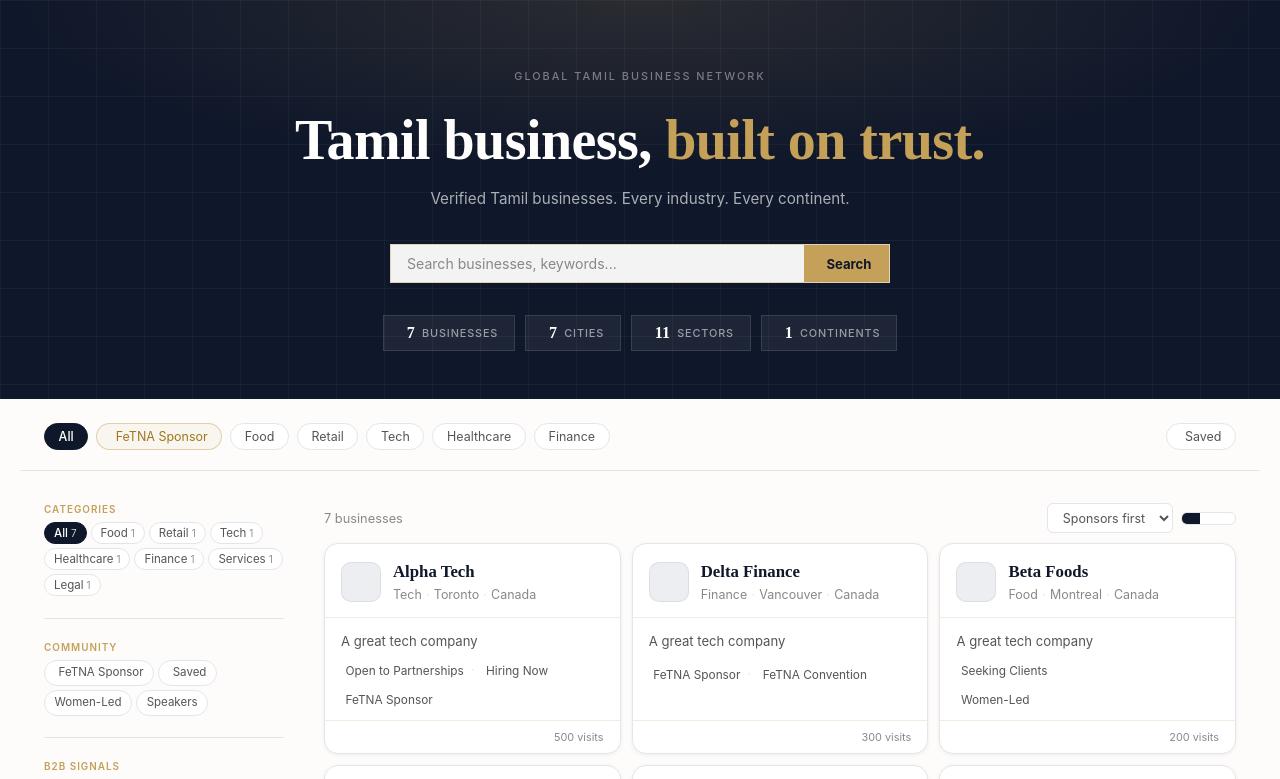
Test: DirectoryClient — favorites › shows 0 businesses when Saved filter is active and no favorites
The width and height of the screenshot is (1280, 779).
Click the 1st button "Saved" at point(1201, 437), box [1166,423,1236,450]
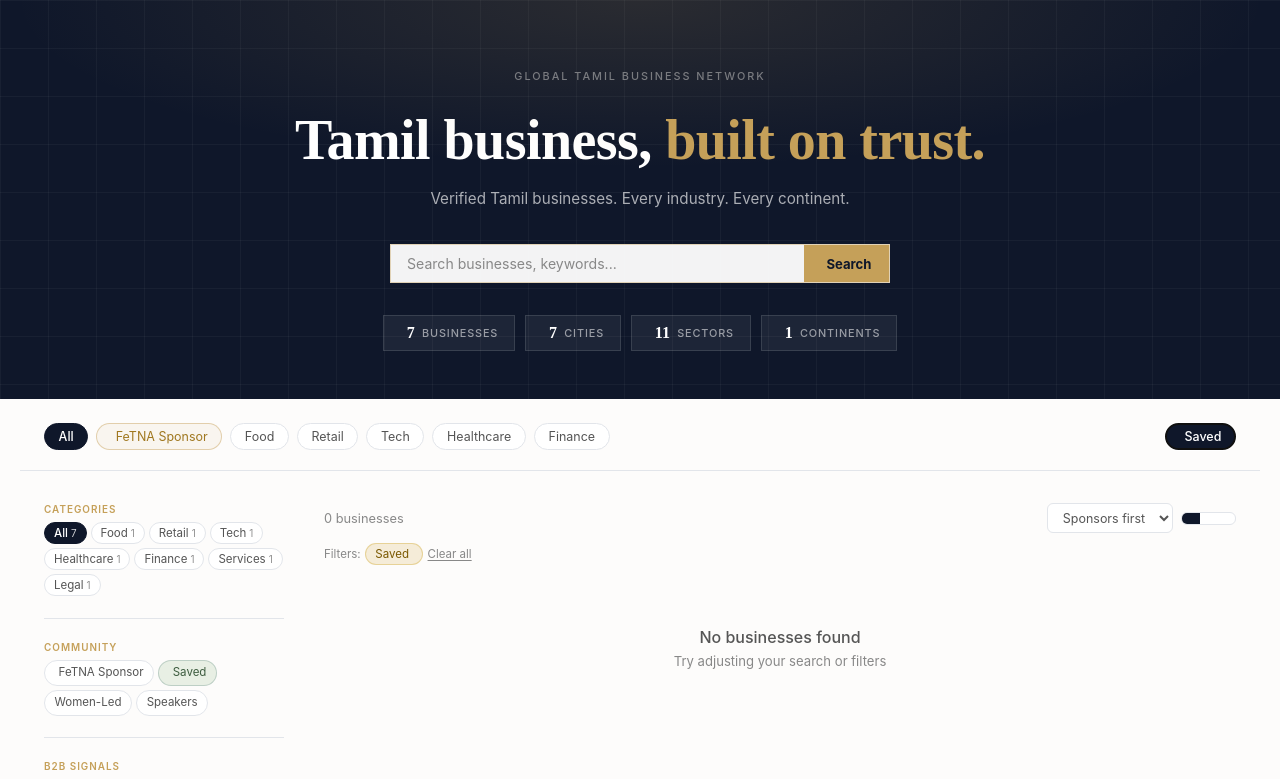
Check: the text "0 businesses" is shown, box [324,511,404,526]
